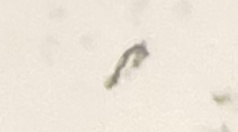microplastic: (104, 40, 147, 91), (210, 91, 231, 105)
